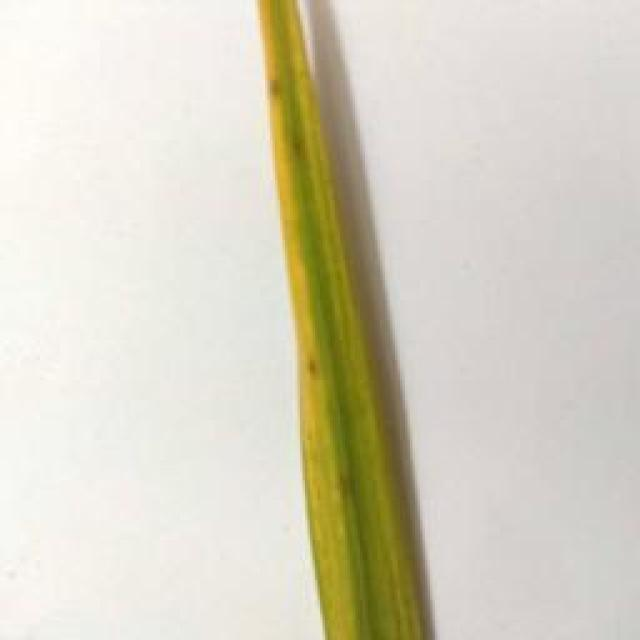Bacterial_Blight: (280, 0, 438, 640), (246, 0, 352, 640)
Brown_Spot: (286, 118, 320, 164), (299, 353, 329, 387)
